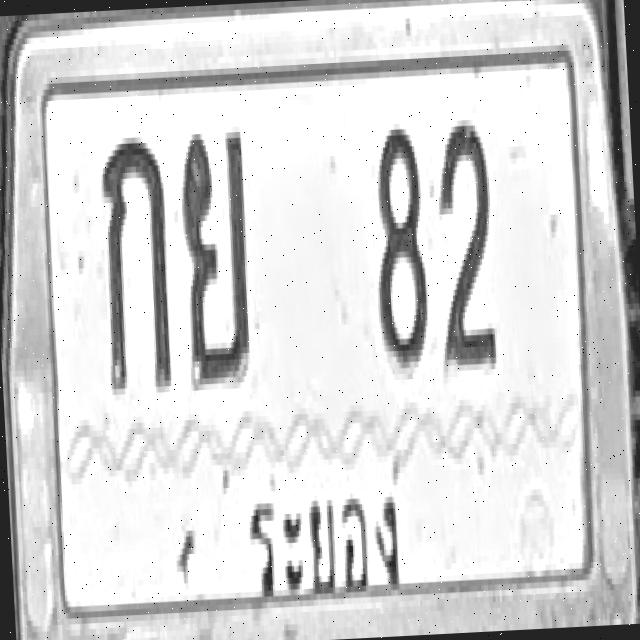10GorGai: (97, 130, 173, 395)
2: (432, 120, 498, 372)
43YorYak: (177, 126, 254, 385)
8: (368, 123, 429, 370)
Rayong: (233, 458, 416, 618)
